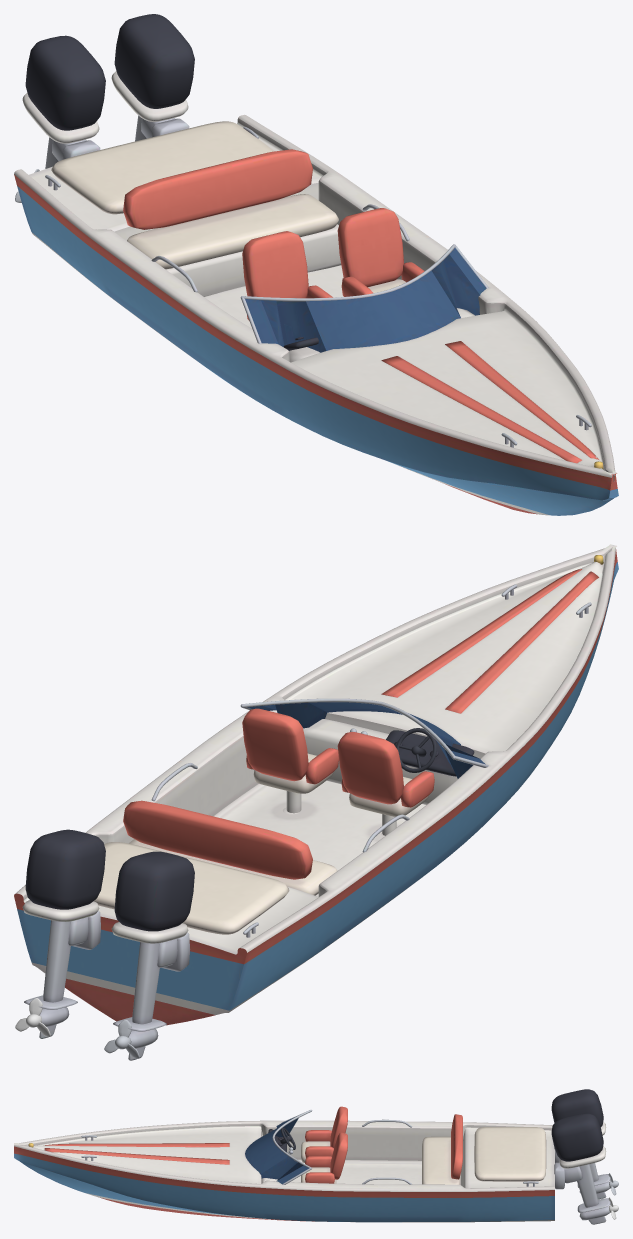
The model's file is speedboat.glb.
The picture shows the model from 3 angles, top to bottom: view 1: azimuth 30°, elevation 25°; view 2: azimuth 150°, elevation 25°; view 3: azimuth 270°, elevation 25°; orthographic projection. The views are drawn at different scales.
Parts seen in each view (by area): view 1: speedboat_body; view 2: speedboat_body, speedboat_steering_wheel; view 3: speedboat_body.
Part boxes in pixels (left/top/right/bottom): speedboat_body: left=14, top=14, right=618, bottom=515; speedboat_body: left=14, top=544, right=618, bottom=1060; speedboat_steering_wheel: left=396, top=728, right=436, bottom=772; speedboat_body: left=14, top=1089, right=610, bottom=1224.
Size of the model in its own units: 2.4 by 1.85 by 8.84.
3 materials, 1 textured.
